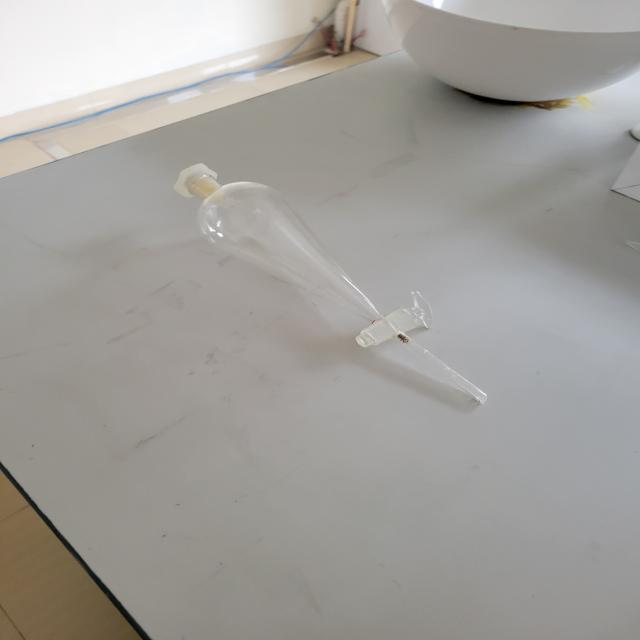Separating_Funnel: (130, 118, 514, 448)
